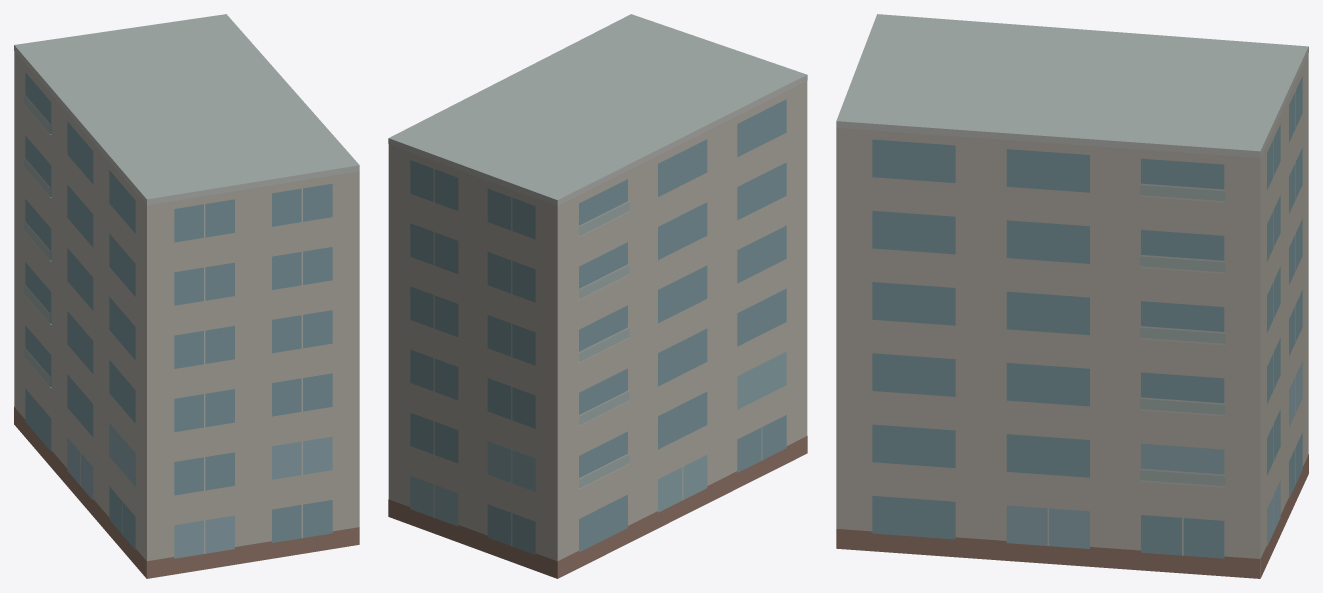
Rendered from survey-upis-32892665.glb.
3 renders of one model, left to right at view 1: azimuth 30°, elevation 25°; view 2: azimuth 150°, elevation 25°; view 3: azimuth 270°, elevation 25°, orthographic. The views are drawn at different scales.
Parts seen in each view (by area): view 1: survey-upis-32892665.tmp; view 2: survey-upis-32892665.tmp; view 3: survey-upis-32892665.tmp.
Part boxes in pixels (x1,y1,x2,y2): survey-upis-32892665.tmp: [14, 14, 359, 578]; survey-upis-32892665.tmp: [388, 14, 807, 578]; survey-upis-32892665.tmp: [836, 14, 1308, 578].
Size of the model in its own units: 10.82 by 15.7 by 15.73.
